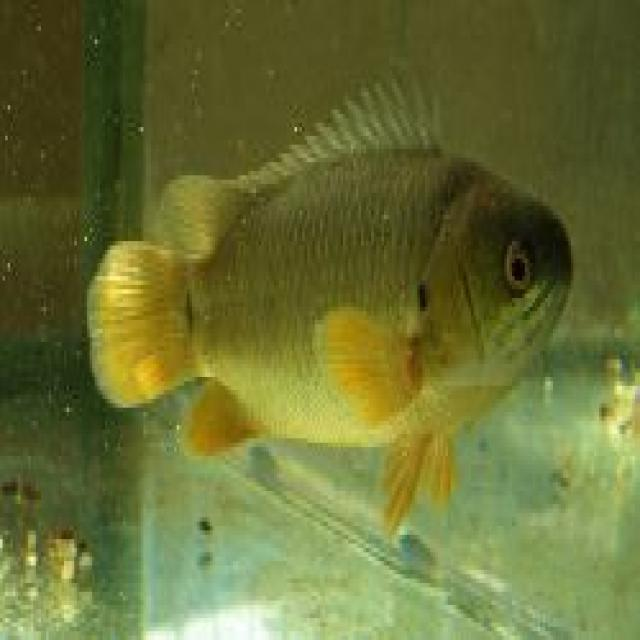Climbing-Perch: (65, 75, 620, 537)
